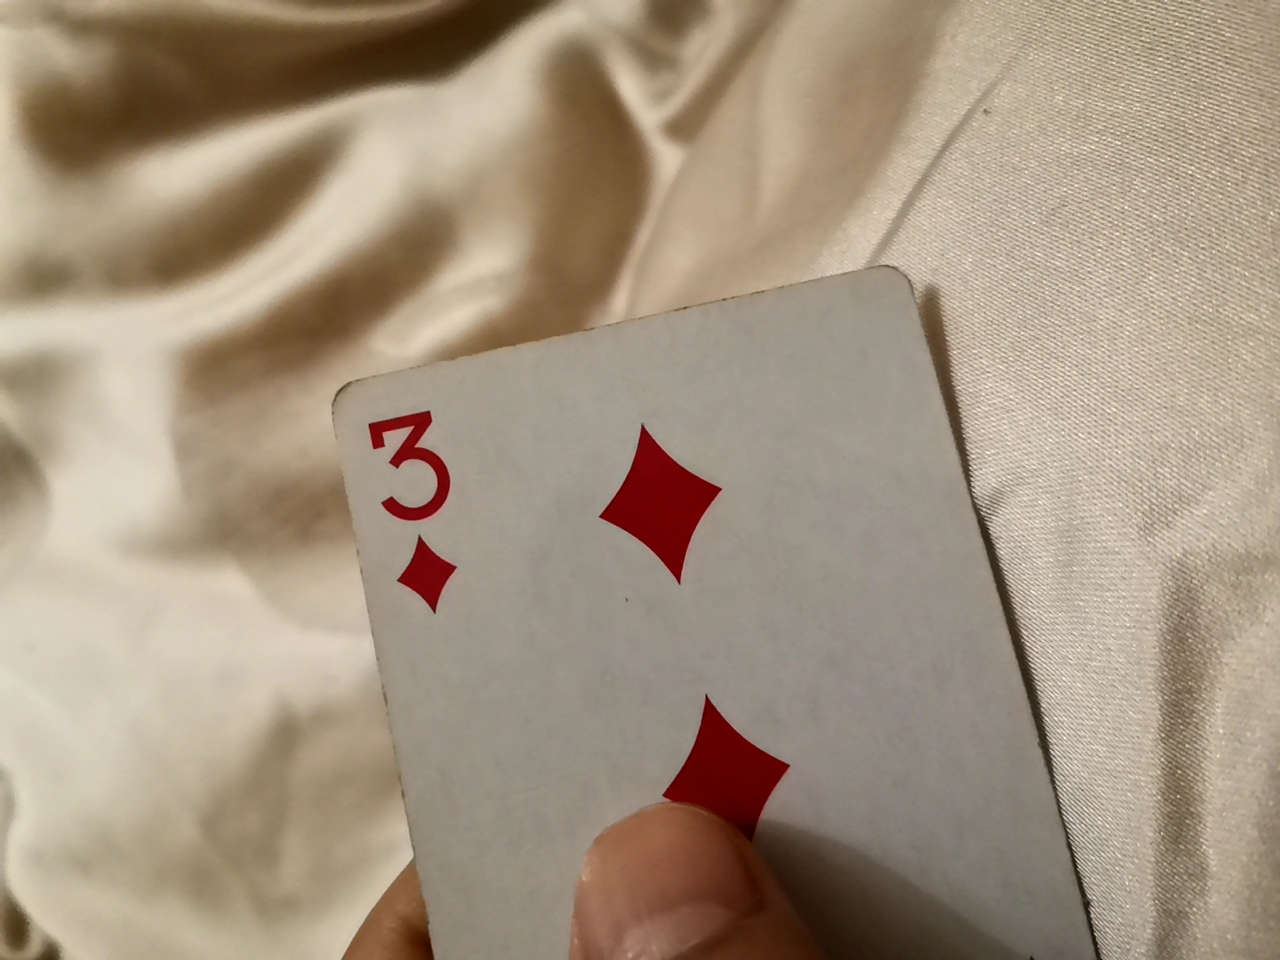fk 3: (327, 236, 995, 959)
